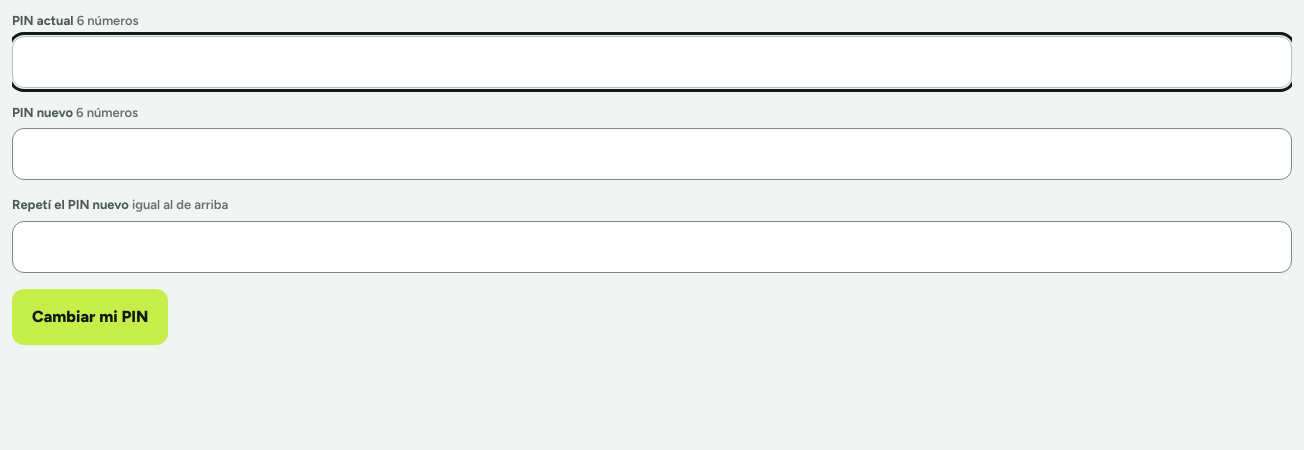
CambiarPin › un PIN actual equivocado se muestra como error
Type "111112" into the password field labelled "PIN actual 6 números" at x=652, y=62, box [12, 36, 1292, 88]
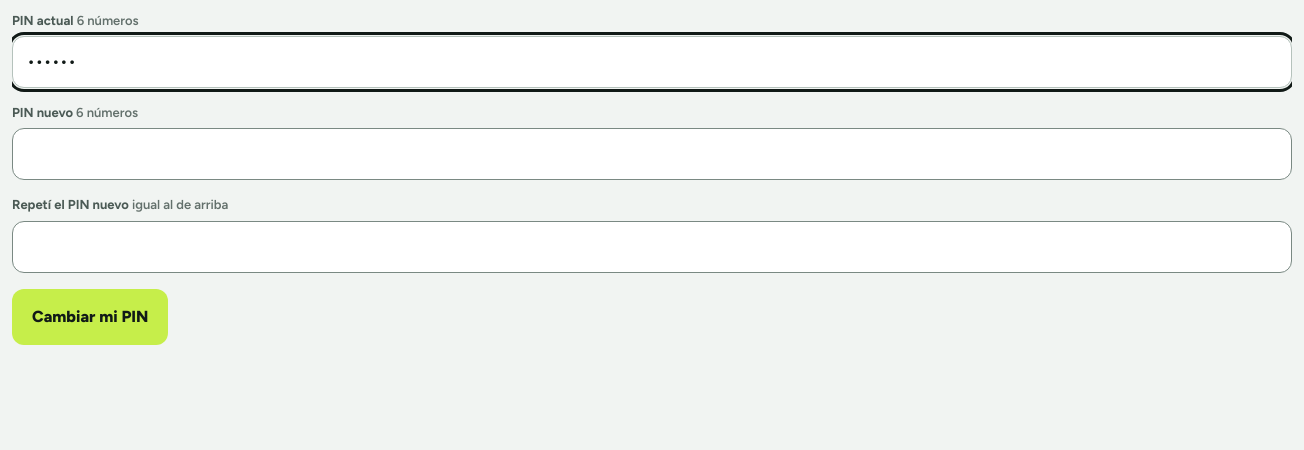
Type "739154" into the password field labelled "PIN nuevo 6 números" at x=652, y=154, box [12, 128, 1292, 180]
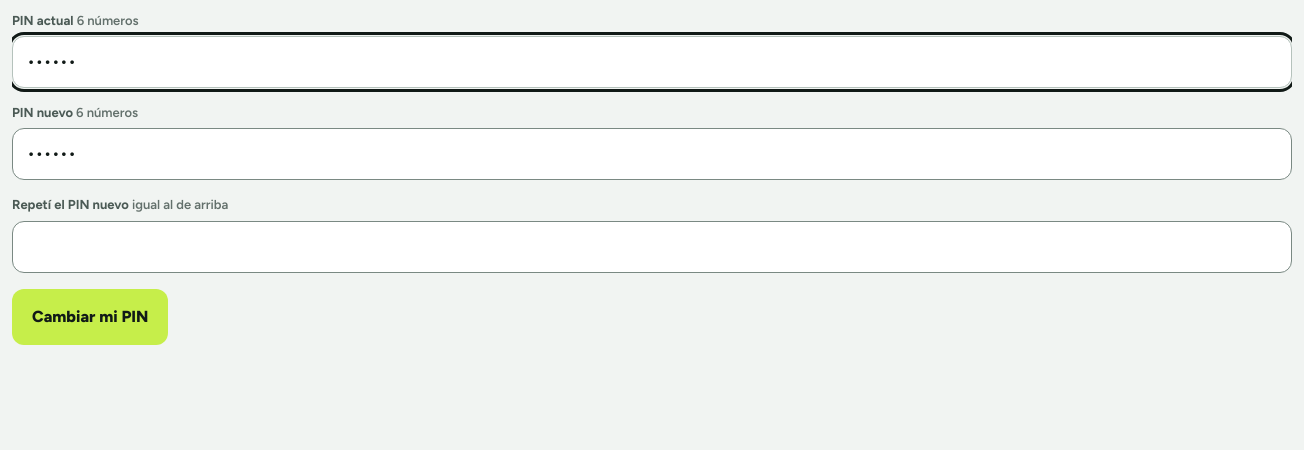
Type "739154" into the password field labelled "Repetí el PIN nuevo igual al de arriba" at x=652, y=247, box [12, 221, 1292, 273]
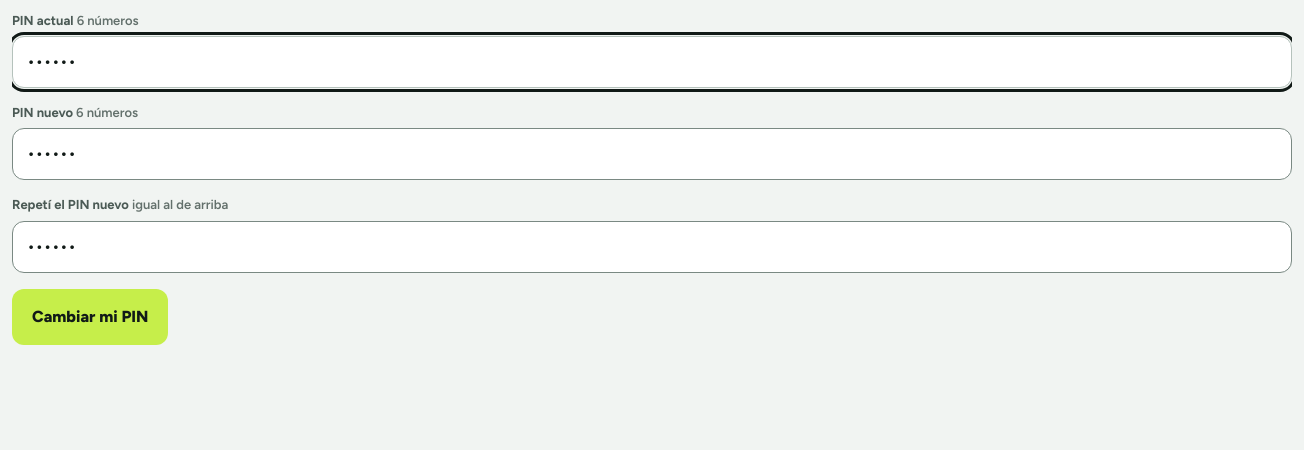
Click the button "Cambiar mi PIN" at x=90, y=317, box [12, 289, 168, 345]
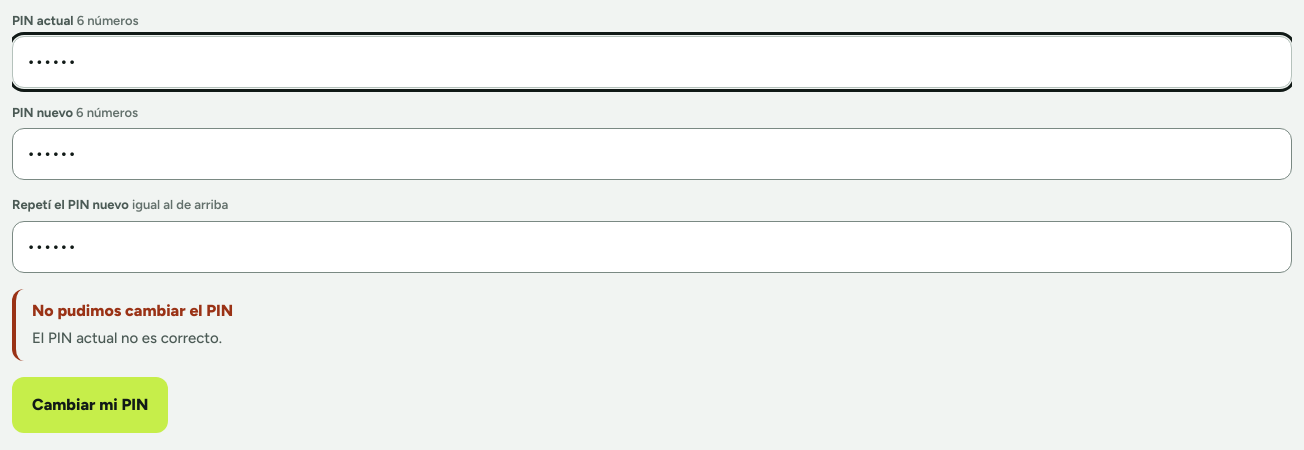
Result: the message shows "no es correcto" at [32, 329, 222, 347]
